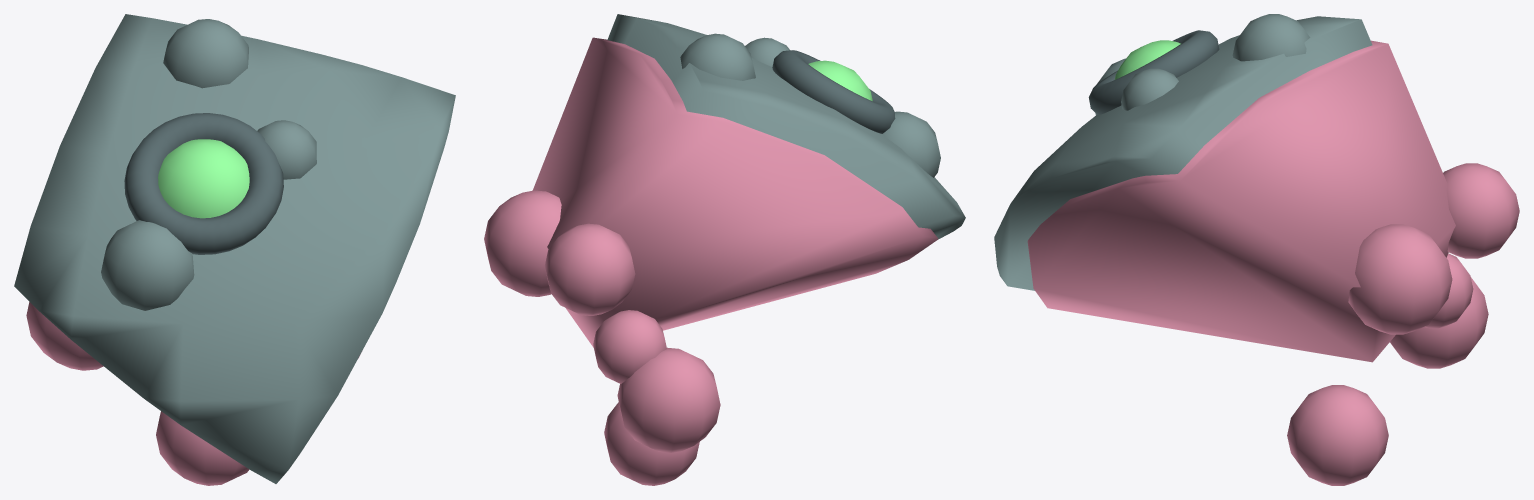
File: chunk33.glb
3 renders of one model, left to right at view 1: azimuth 30°, elevation 25°; view 2: azimuth 150°, elevation 25°; view 3: azimuth 270°, elevation 25°, orthographic. The views are drawn at different scales.
Visible parts, largest first — view 1: skin, lip, glow, flesh; view 2: flesh, skin, lip, glow; view 3: flesh, skin, lip, glow.
Boxes of the visible parts, x1=… form: skin: x1=14, y1=14, x2=455, y2=483; lip: x1=124, y1=113, x2=283, y2=254; glow: x1=158, y1=139, x2=249, y2=218; flesh: x1=26, y1=302, x2=359, y2=485; flesh: x1=484, y1=37, x2=938, y2=485; skin: x1=607, y1=14, x2=965, y2=239; lip: x1=772, y1=50, x2=895, y2=133; glow: x1=808, y1=60, x2=872, y2=101; flesh: x1=1027, y1=40, x2=1519, y2=485; skin: x1=994, y1=14, x2=1372, y2=290; lip: x1=1088, y1=30, x2=1219, y2=114; glow: x1=1114, y1=40, x2=1180, y2=79.
Bounding box in the file's own units: 0.8021 × 0.8852 × 0.9437.
